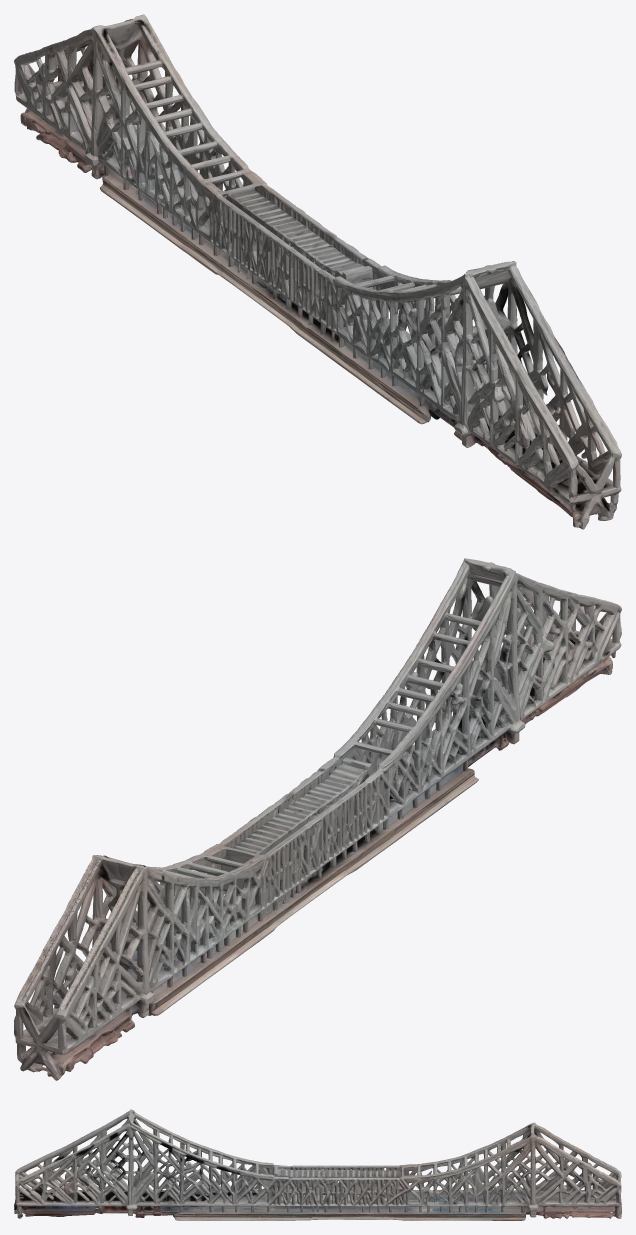
File: howrah_bridge.glb
3 views of the same model, one above another, from view 1: azimuth 30°, elevation 25°; view 2: azimuth 150°, elevation 25°; view 3: azimuth 270°, elevation 25° (orthographic). The views are drawn at different scales.
Visible parts, largest first — view 1: world; view 2: world; view 3: world.
Boxes of the visible parts, <box> form: world: <box>14,14,621,529</box>; world: <box>14,558,621,1080</box>; world: <box>14,1109,621,1220</box>.
Size of the model in its own units: 0.0662 by 0.1806 by 0.9995.
Materials: 1 (1 with a texture image).
